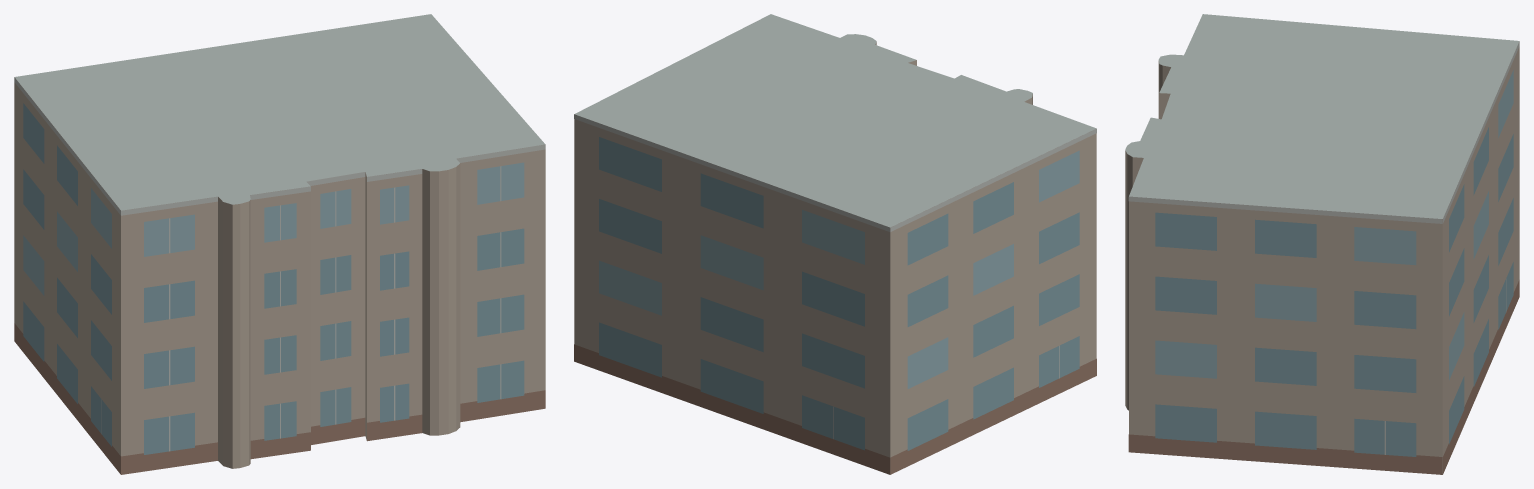
The model's file is survey-upis-32676895.glb.
3 renders of one model, left to right at view 1: azimuth 30°, elevation 25°; view 2: azimuth 150°, elevation 25°; view 3: azimuth 270°, elevation 25°, orthographic. The views are drawn at different scales.
Parts seen in each view (by area): view 1: survey-upis-32676895.tmp; view 2: survey-upis-32676895.tmp; view 3: survey-upis-32676895.tmp.
Boxes of the visible parts, x1=… form: survey-upis-32676895.tmp: x1=14, y1=14, x2=545, y2=474; survey-upis-32676895.tmp: x1=574, y1=14, x2=1096, y2=474; survey-upis-32676895.tmp: x1=1125, y1=14, x2=1519, y2=474.
Size of the model in its own units: 21.94 by 12.75 by 17.82.
